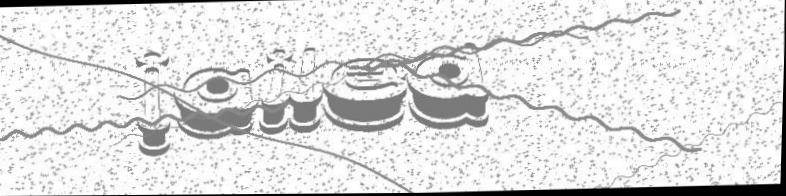a: (171, 64, 261, 142)
d: (406, 42, 494, 131)
e: (321, 56, 409, 135)
i: (130, 47, 175, 158), (258, 47, 291, 135)
l: (288, 46, 324, 133)
